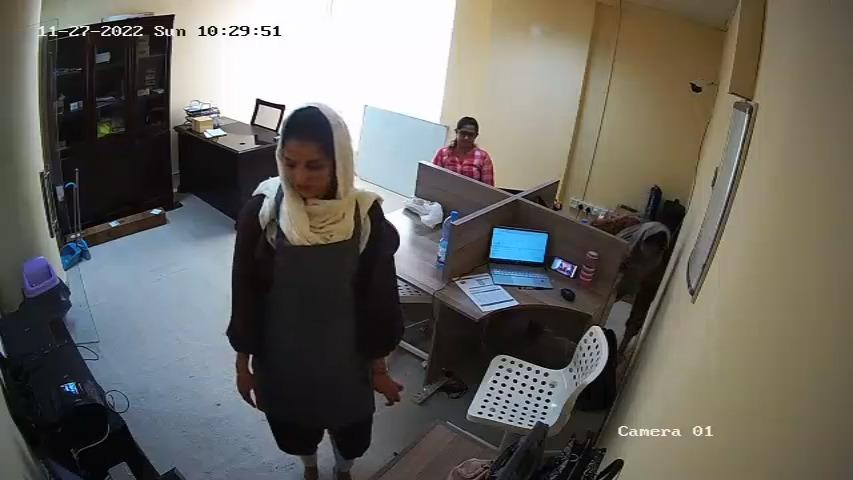apron: (257, 193, 368, 420)
